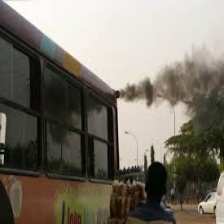smoke: (120, 57, 224, 95)
